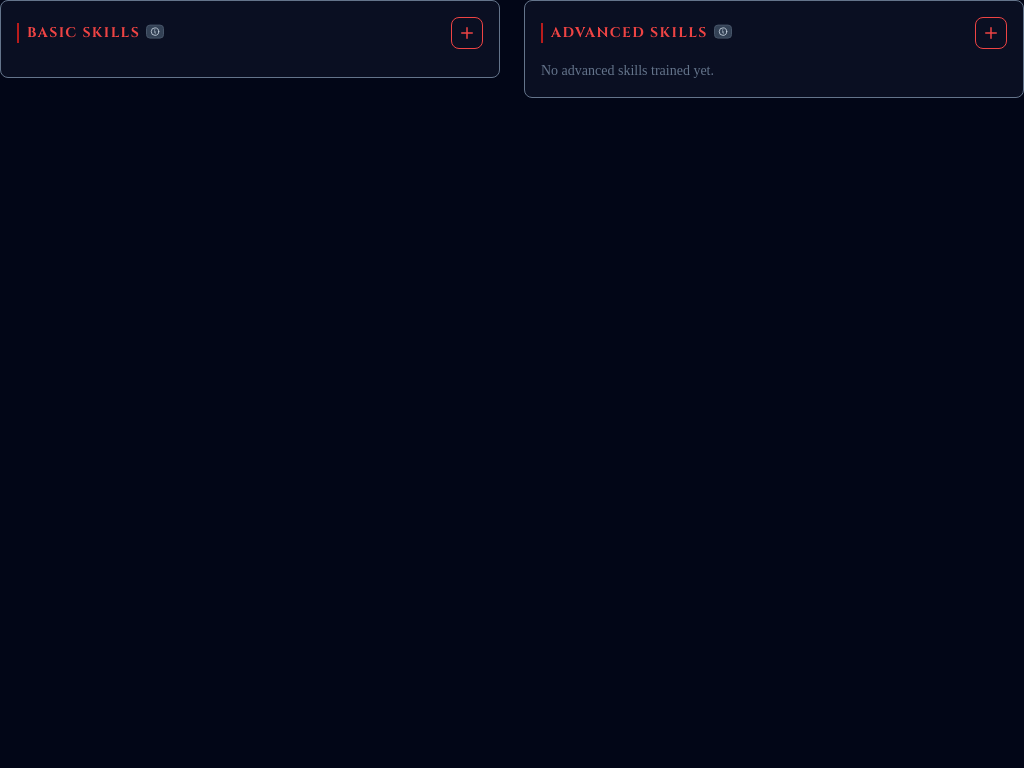
SkillsTab › keeps the Skill picker open and uses separated source-labelled cards
What coordinates should you click on to do the following:
click the button named "Add Basic Skill"
I would click on:
 (467, 33)
Its box is [451, 17, 483, 49].
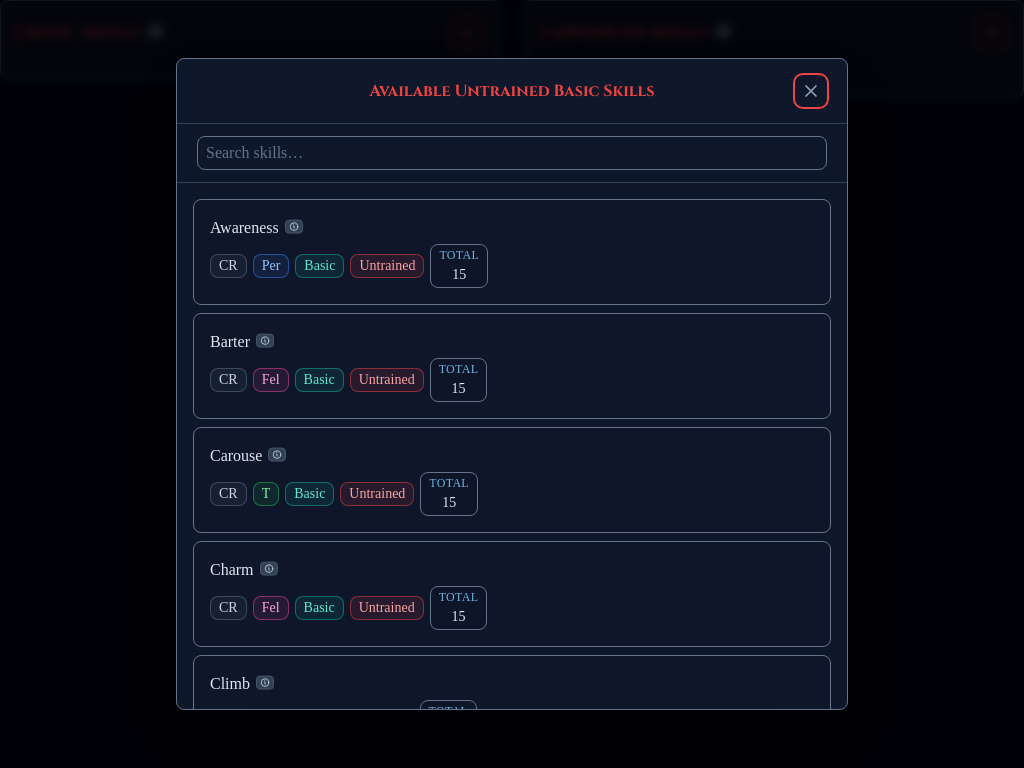
Check: the 1st text "CR" is shown, box [210, 254, 247, 278]
What coordinates should you click on to do the following:
click the button with aria-label "Select Awareness"
I would click on:
 (244, 227)
Its box is [193, 199, 831, 305].
(page scrolled)
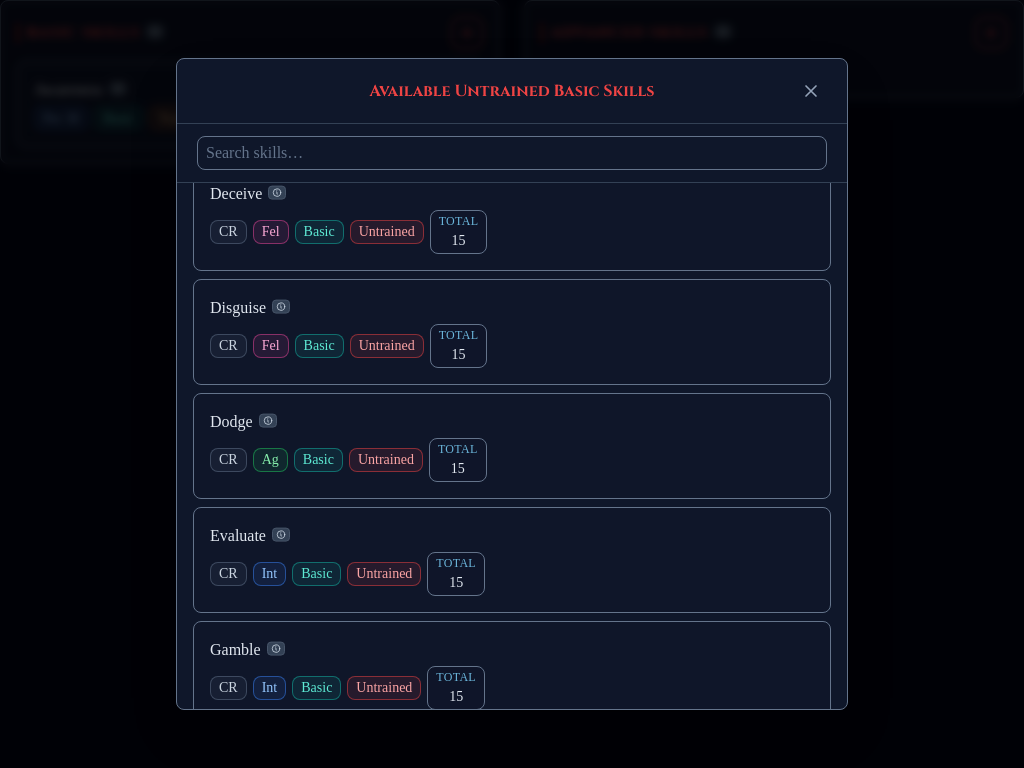
Check: the dialog "Available Untrained Basic Skills" is shown, box [176, 58, 848, 710]
Check: the button with aria-label "Select Dodge" is shown, box [193, 393, 831, 499]
